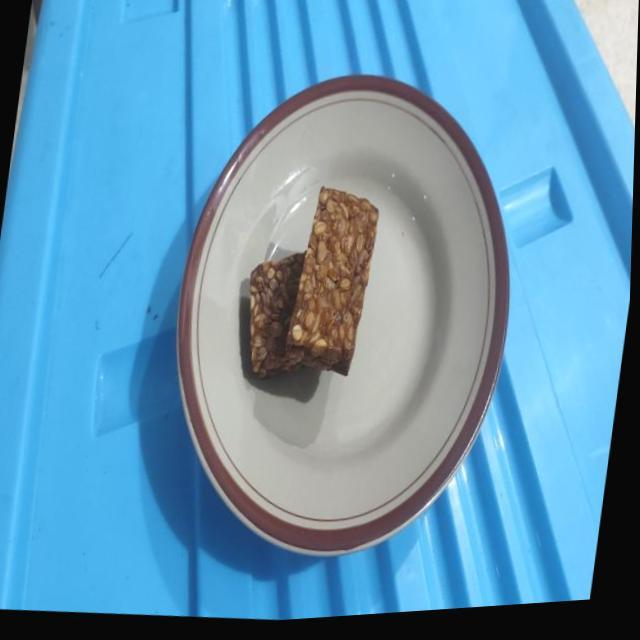tempe_goreng: (286, 186, 381, 376), (249, 252, 305, 378)
